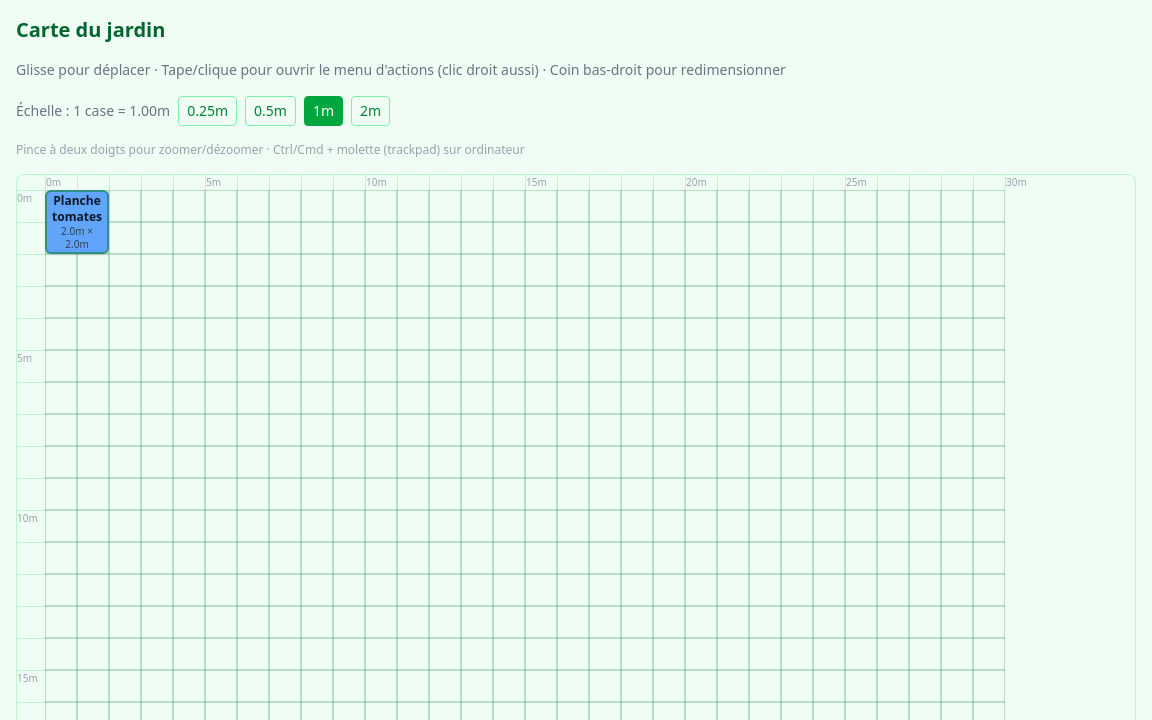
it: GardenMapPage › un clic simple (sans deplacement) selectionne le bloc et affiche les actions
Press the mouse on the element showing "Planche tomates 2.0m × 2.0m" at (77, 222), box [45,190,109,254]
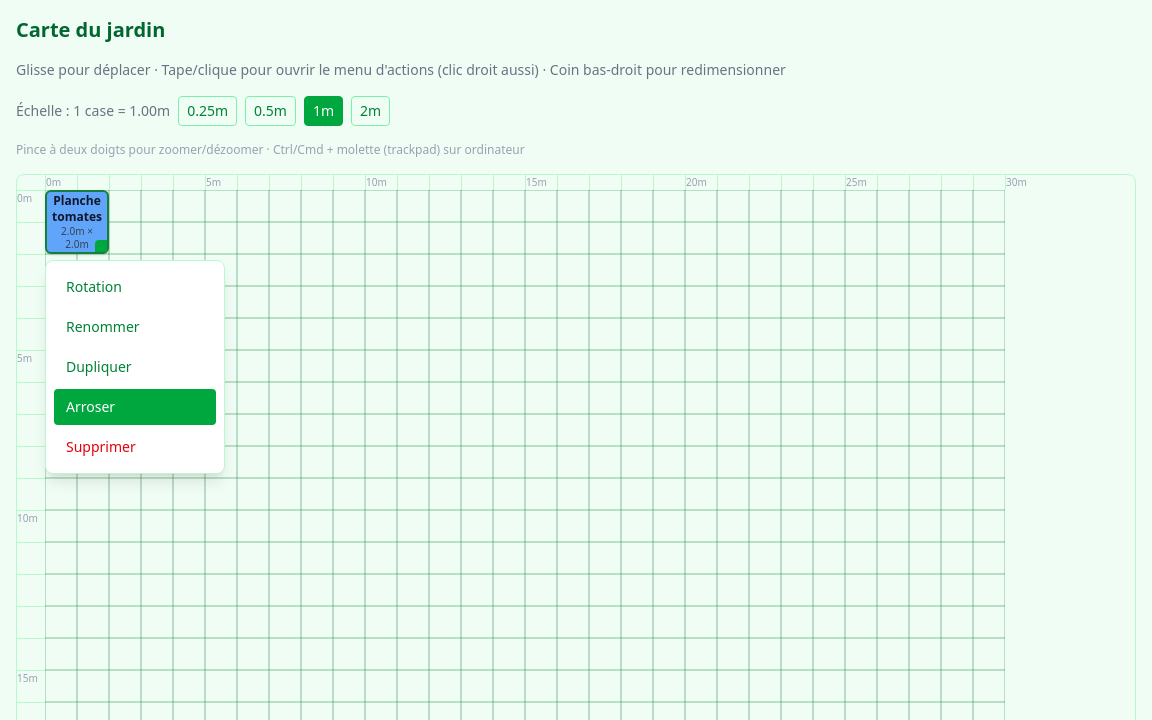
Check: the button "Rotation" is shown, box [54,269,216,305]
Check: the button "Arroser" is shown, box [54,389,216,425]
